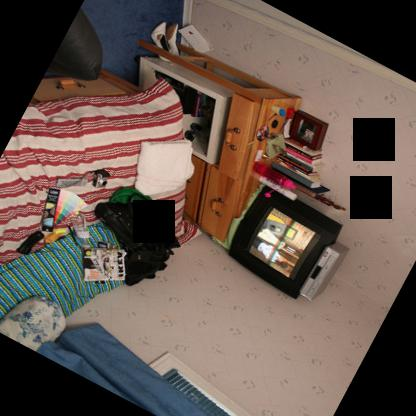handbag: (90, 202, 180, 252)
